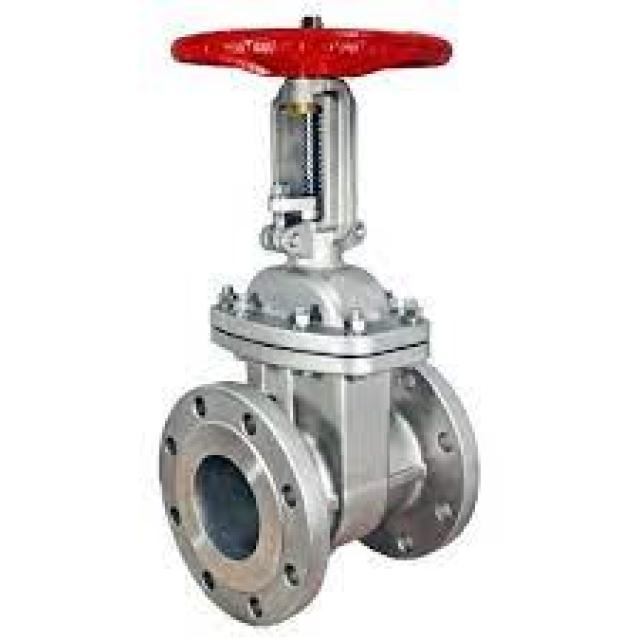Wheel Handle Valve Threaded: (155, 4, 499, 104)
